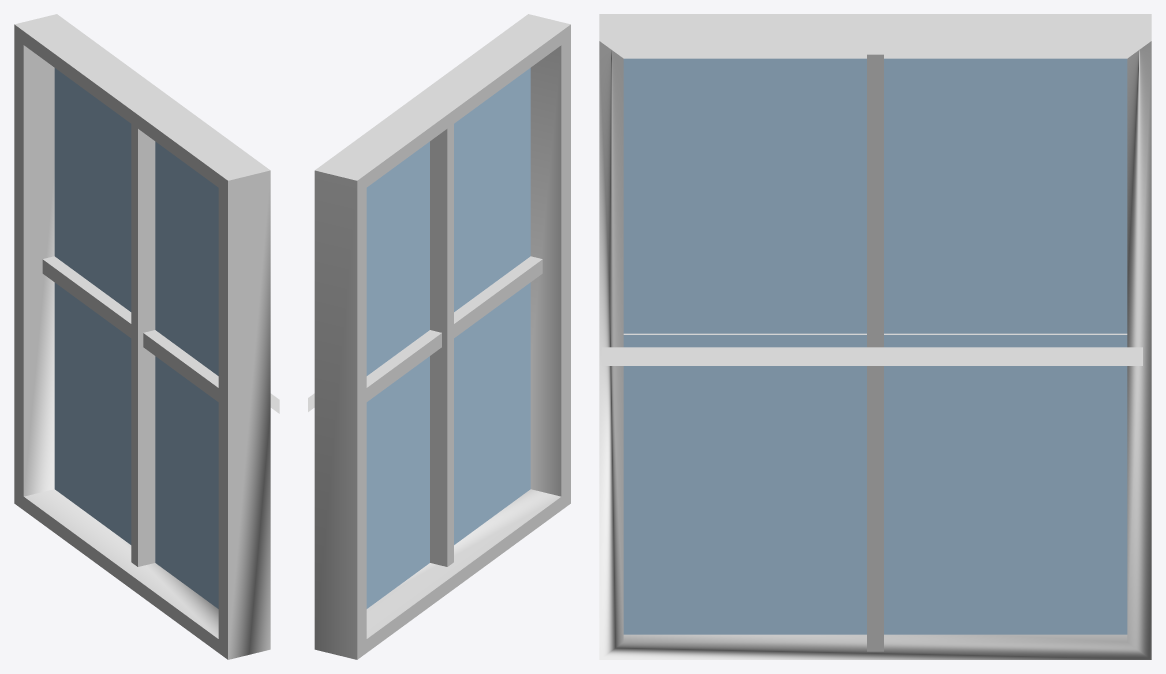
File: rightwall_props.glb
3 renders of one model, left to right at view 1: azimuth 30°, elevation 25°; view 2: azimuth 150°, elevation 25°; view 3: azimuth 270°, elevation 25°, orthographic. The views are drawn at different scales.
Parts seen in each view (by area): view 1: window_003; view 2: window_003; view 3: window_003.
Boxes of the visible parts, <box> form: window_003: <box>14,14,279,659</box>; window_003: <box>308,14,570,659</box>; window_003: <box>599,14,1151,659</box>.
Bounding box in the file's own units: 0.228 × 1.99 × 1.61.
1 material, 1 textured.
